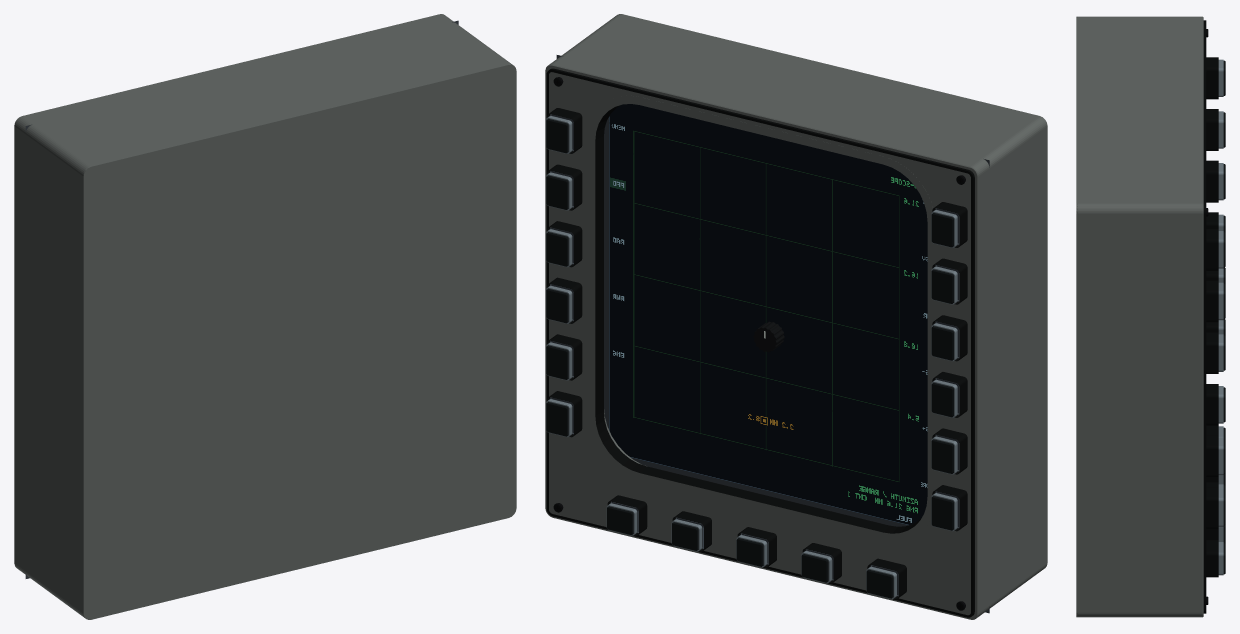
File: MFDStudio.obj
The picture shows the model from 3 angles, left to right: view 1: azimuth 30°, elevation 25°; view 2: azimuth 150°, elevation 25°; view 3: azimuth 270°, elevation 25°; orthographic projection. The views are drawn at different scales.
Visible parts, largest first — view 1: MFDStudioBody; view 2: MFDStudioBody, MFDStudioScreen, MFDStudioKnob0; view 3: MFDStudioBody.
Boxes of the visible parts, box(x1,y1,x2,y2) form: MFDStudioBody: box(14, 14, 516, 619); MFDStudioBody: box(545, 14, 1047, 619); MFDStudioScreen: box(550, 55, 989, 613); MFDStudioKnob0: box(753, 321, 784, 352); MFDStudioBody: box(1076, 16, 1225, 617).
Size of the model in its own units: 0.28 by 0.28 by 0.0915.
10 materials, 1 textured.
